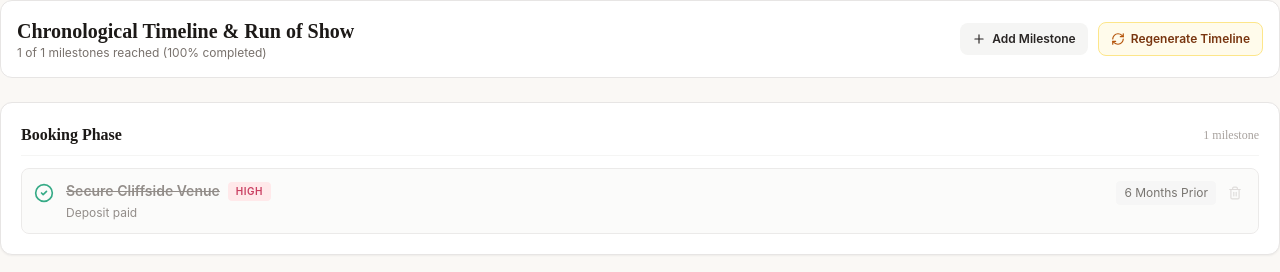
Test: GatherWise Frontend Components › TimelineTab › cycles milestone status on click
Expected: the text "Secure Cliffside Venue" is shown, [66, 181, 220, 201]
Click the button titled "Click to cycle status: completed": (44, 193) [34, 183, 54, 203]
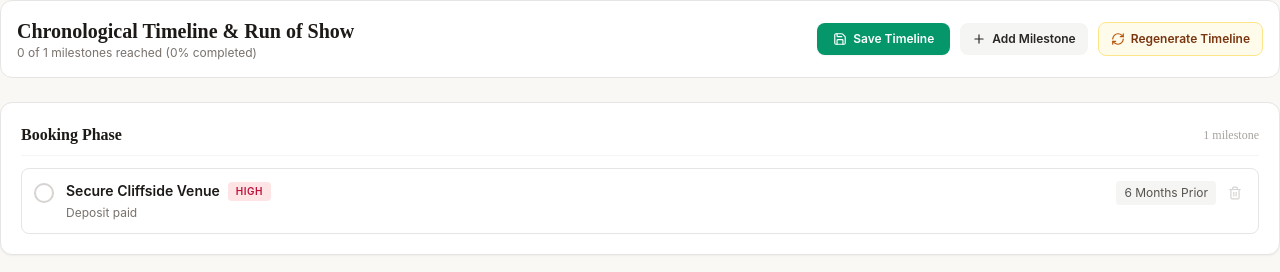
Expected: the text "Save Timeline" is shown, [853, 31, 934, 47]
